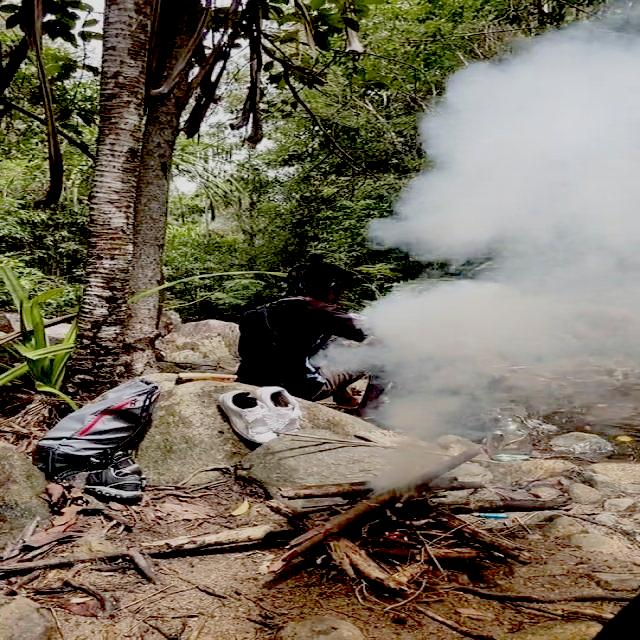smoke: (448, 68, 632, 231), (413, 278, 634, 377), (523, 38, 636, 115), (496, 220, 634, 280), (404, 178, 509, 253), (392, 376, 487, 429), (424, 116, 496, 174), (567, 6, 640, 46), (362, 298, 418, 343)
